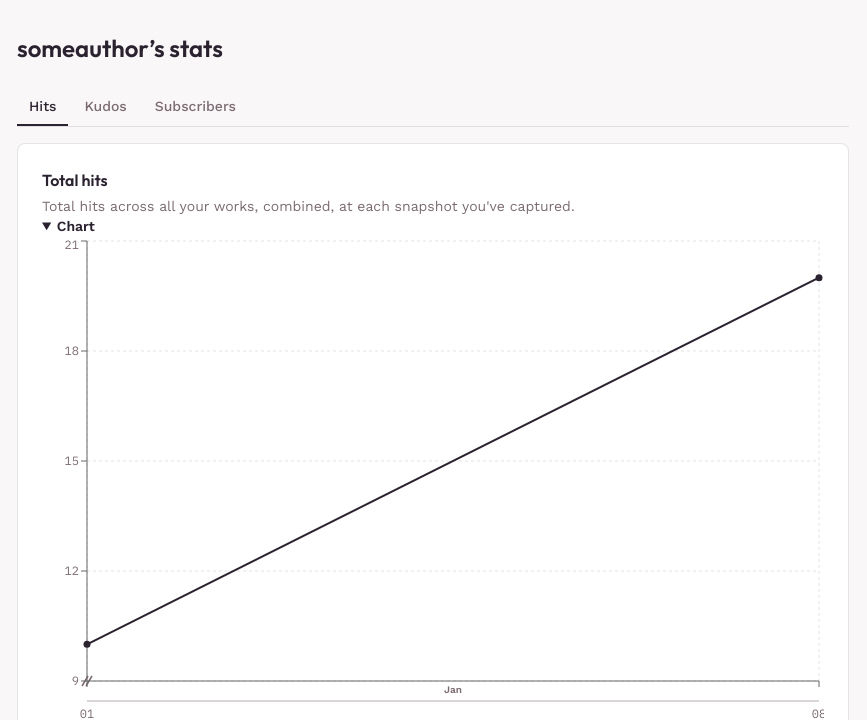
DashboardPage: account-level metric toggle › switching to the Subscribers tab renders a chart built from totalUserSubscriptions
What coordinates should you click on to do the following:
click the tab "Subscribers"
I would click on:
 (195, 107)
Its box is [143,88,248,126].
(page scrolled)
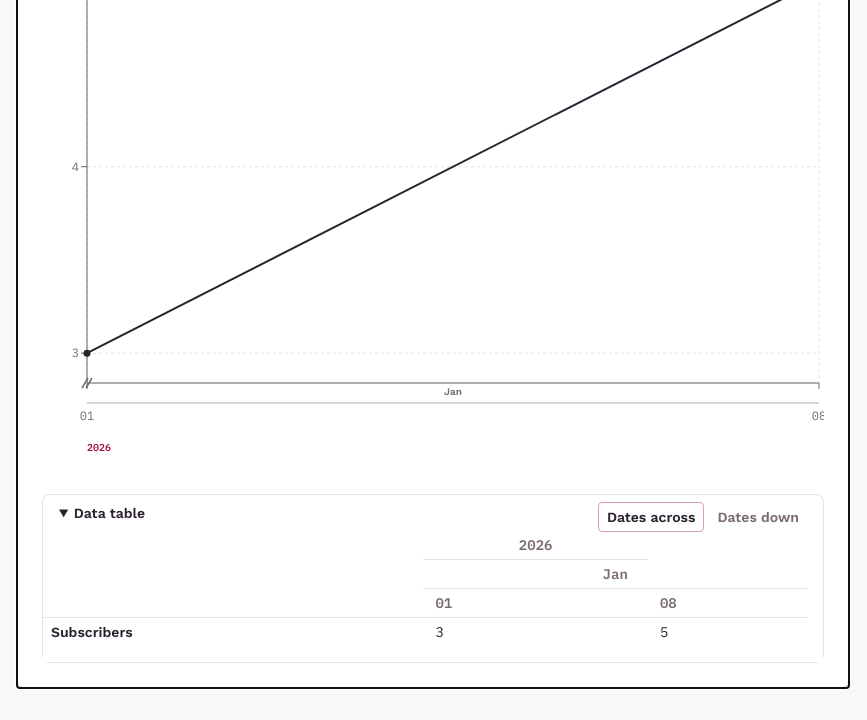
Expected: the number of cells is 2, [423,618,648,646]; [648,618,807,646]
Result: the cell "3" is shown at [423,618,648,646]
Result: the cell "5" is shown at [648,618,807,646]
